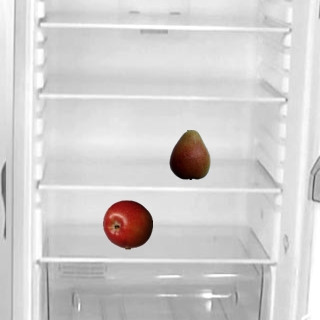Apple Braeburn: (102, 199, 152, 249)
Pear Forelle: (164, 129, 214, 179)
